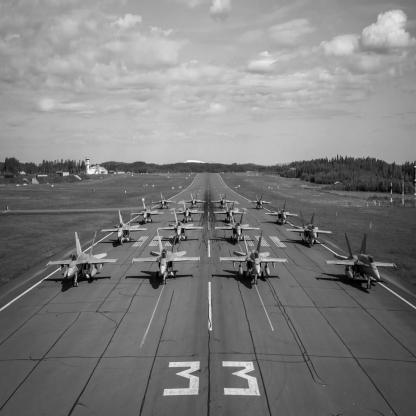F18: (325, 234, 400, 290), (47, 232, 119, 288), (220, 231, 290, 286), (133, 230, 201, 286), (101, 210, 149, 246), (287, 212, 334, 248), (216, 209, 262, 245), (159, 209, 205, 244), (266, 201, 299, 227), (131, 200, 165, 225), (214, 200, 248, 224), (172, 200, 205, 224), (212, 192, 236, 210), (153, 193, 177, 210), (185, 192, 207, 209), (249, 194, 272, 210)
